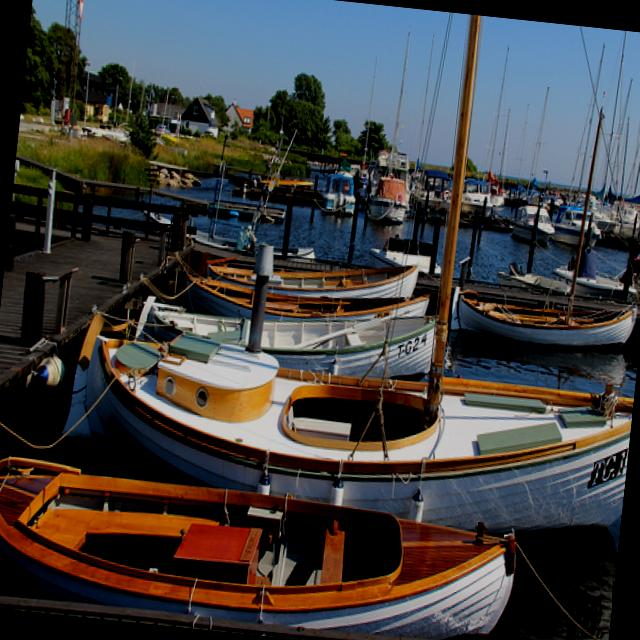Vehicle: (153, 123, 171, 139), (203, 130, 214, 137)
